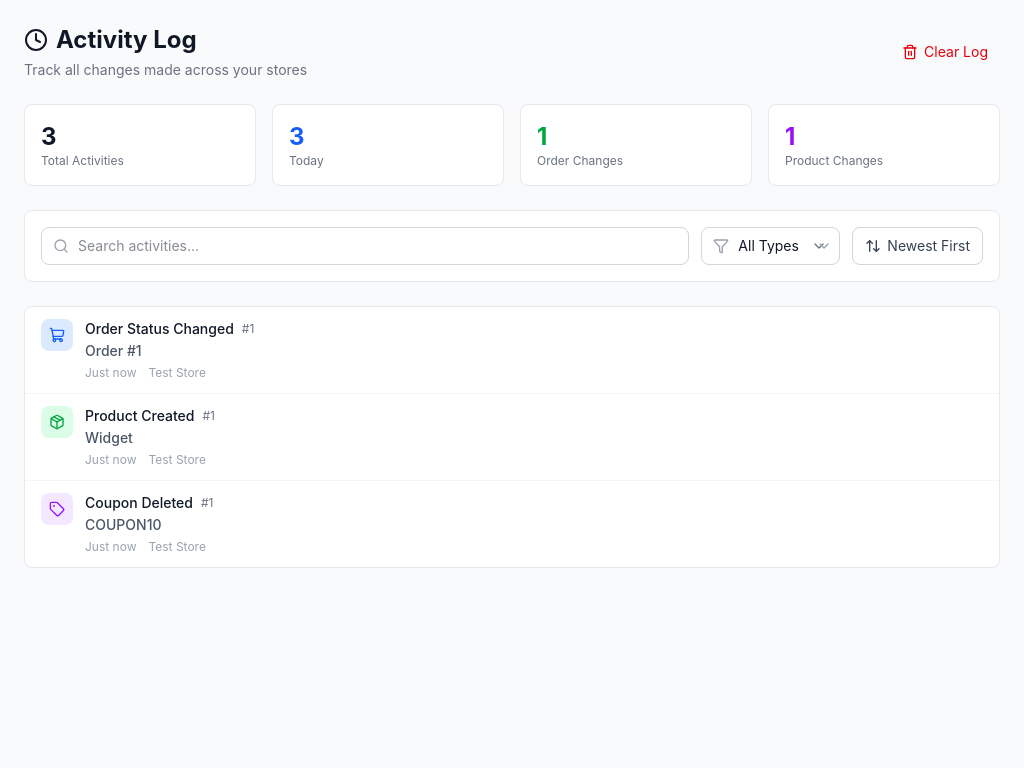
Scenario: ActivityLogPage › filtering › filters by entity type
The image size is (1024, 768).
Select "Orders" filter
Select "Orders" in the dropdown showing "All Types" at (771, 246), box [701,227,840,265]
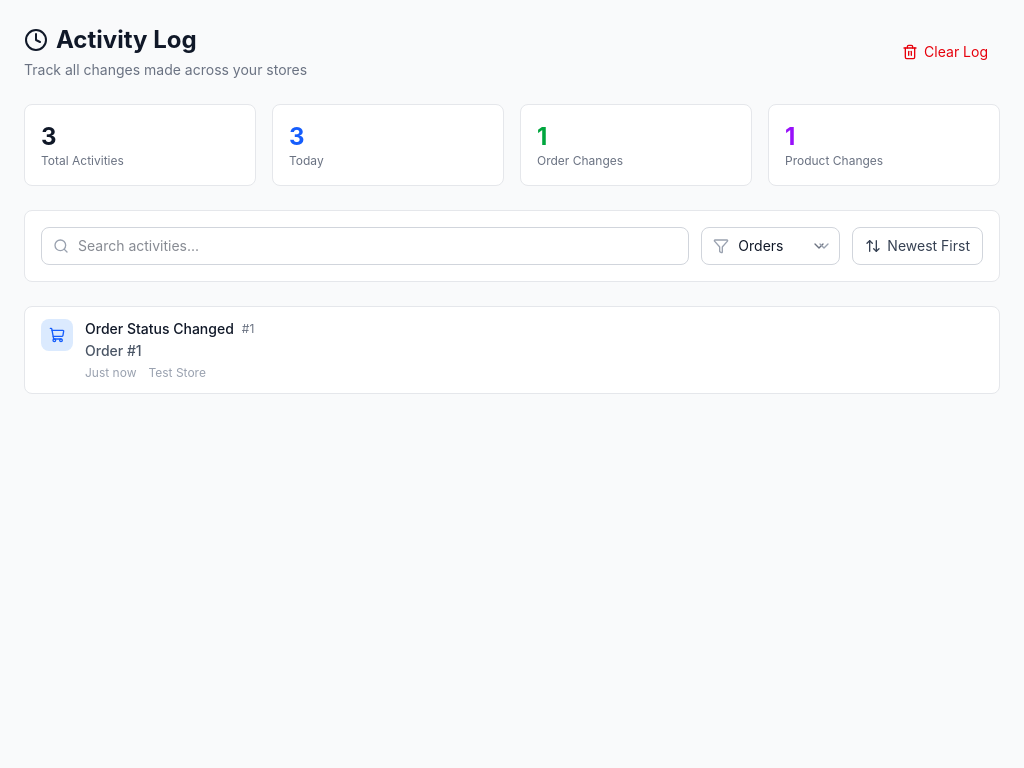
Expected: the text "Order Status Changed" is shown, [85,319,234,339]
Expected: the button "Product Created" is gone
Expected: the button "Coupon Deleted" is gone
